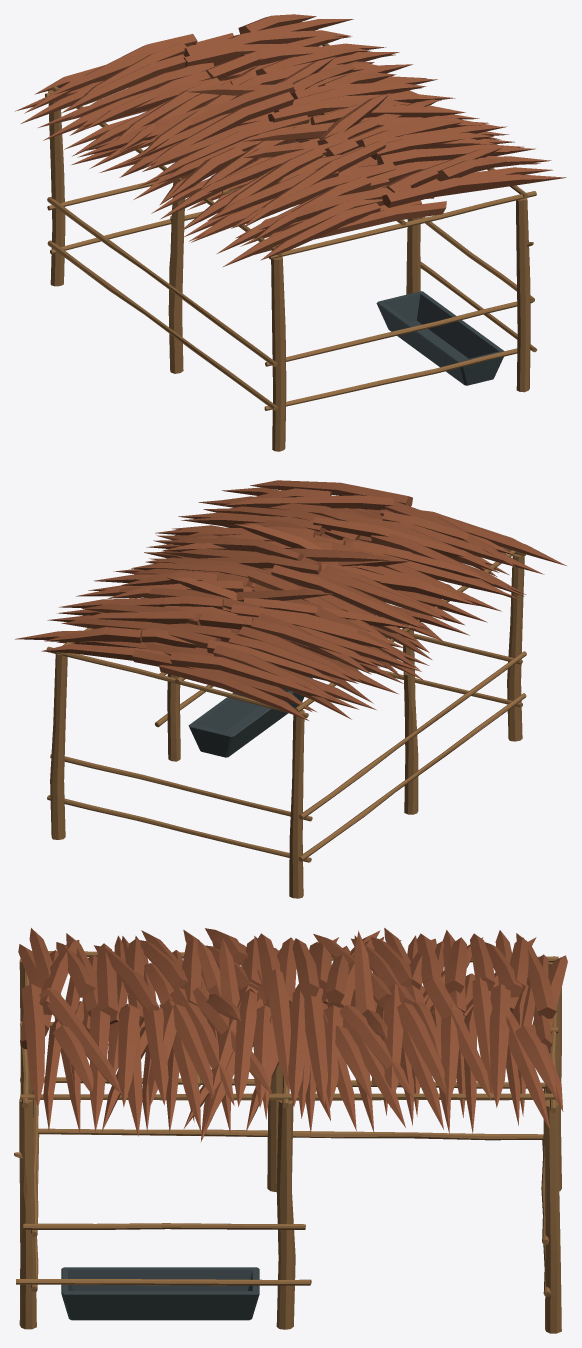
The picture shows the model from 3 angles, top to bottom: view 1: azimuth 30°, elevation 25°; view 2: azimuth 150°, elevation 25°; view 3: azimuth 270°, elevation 25°; orthographic projection. The views are drawn at different scales.
Parts seen in each view (by area): view 1: 牛棚_1, 牛棚_2; view 2: 牛棚_1, 牛棚_2; view 3: 牛棚_1, 牛棚_2.
Part boxes in pixels (x1,y1,x2,y2): 牛棚_1: [15, 14, 566, 267]; 牛棚_2: [45, 29, 537, 451]; 牛棚_1: [15, 480, 566, 720]; 牛棚_2: [46, 490, 526, 898]; 牛棚_1: [18, 928, 567, 1142]; 牛棚_2: [14, 951, 561, 1333].
Size of the model in its own units: 495 by 315 by 558.
